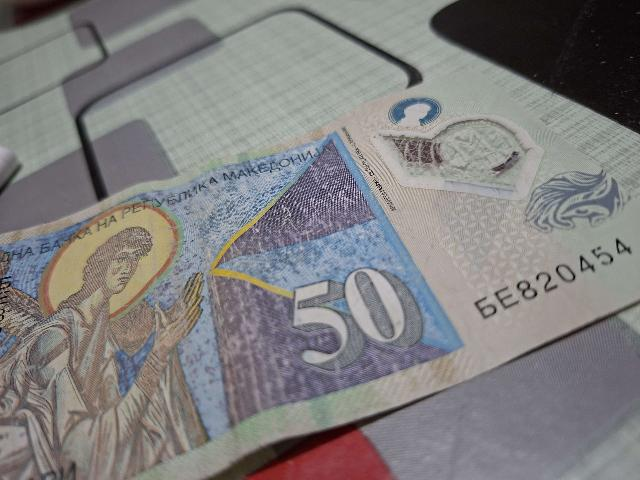50_note: (0, 63, 639, 479)
